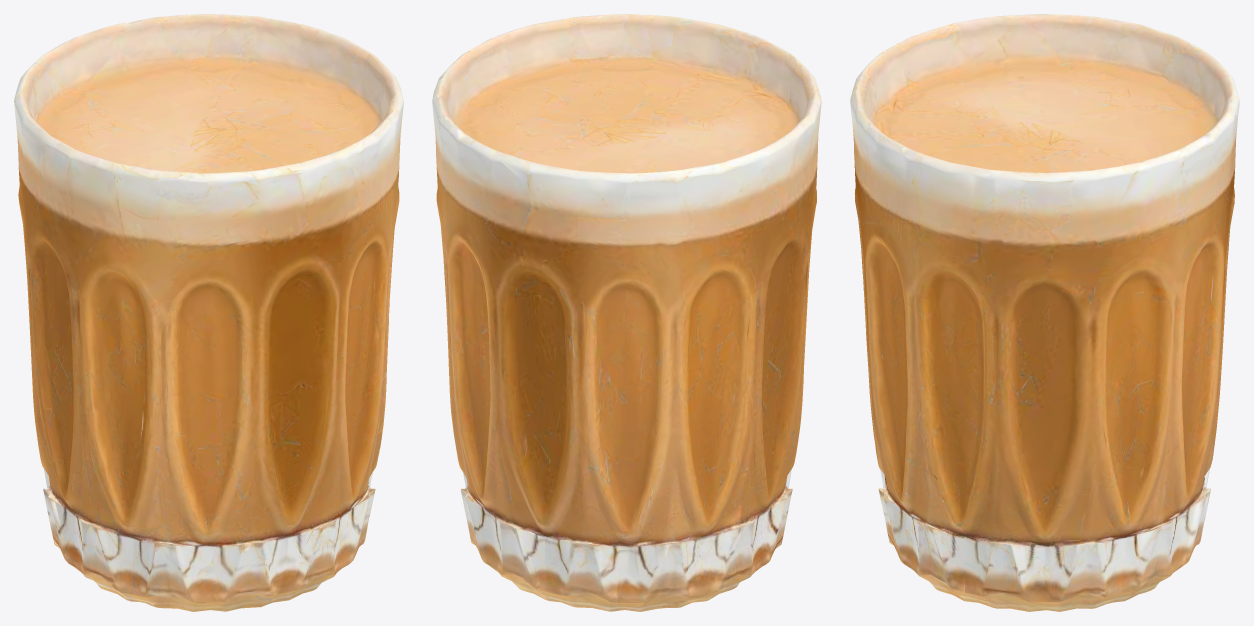
File: fog-line-lite.glb
3 views of the same model, side by side, from view 1: azimuth 30°, elevation 25°; view 2: azimuth 150°, elevation 25°; view 3: azimuth 270°, elevation 25° (orthographic).
Visible parts, largest first — view 1: Mesh_0; view 2: Mesh_0; view 3: Mesh_0.
Part boxes in pixels (bbox=[...]): Mesh_0: bbox=[14, 14, 403, 611]; Mesh_0: bbox=[432, 14, 821, 611]; Mesh_0: bbox=[850, 14, 1239, 611].
Size of the model in its own units: 1.44 by 1.9 by 1.44.
Materials: 1 (1 with a texture image).
